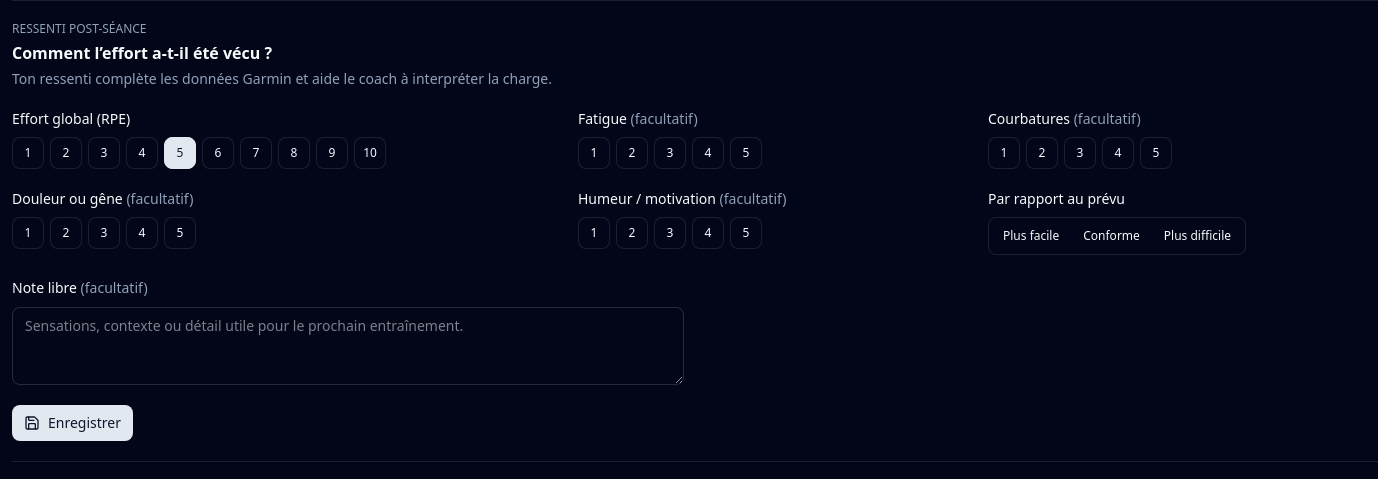
Test: ActivityFeedbackForm › announces a save failure
Click the button "Enregistrer" at (72, 423), box left=12, top=405, right=133, bottom=441
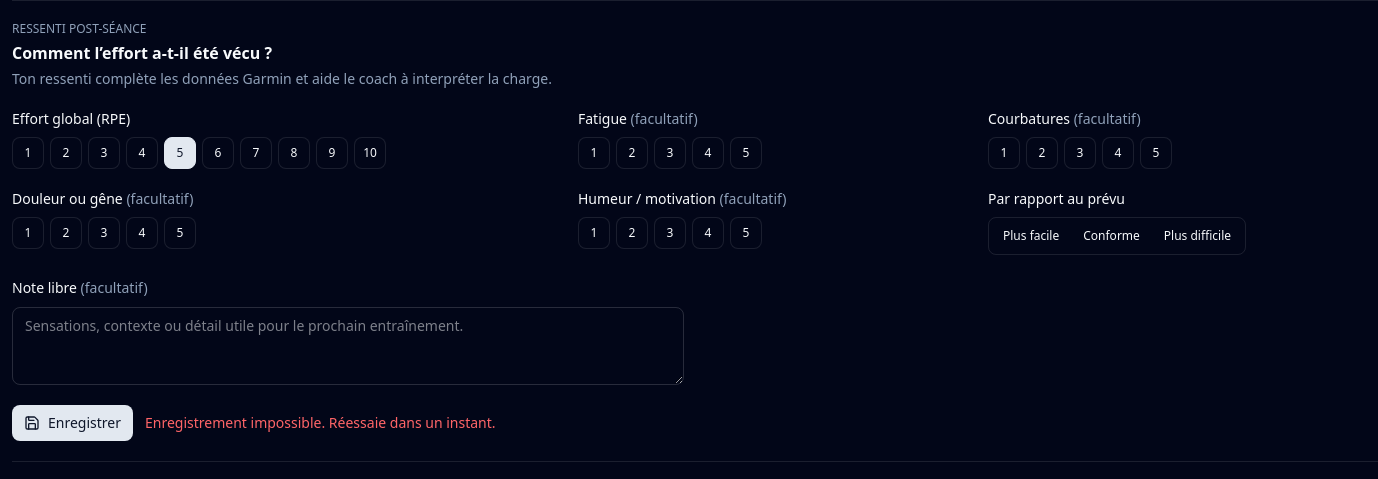
Expected: the message reads "Enregistrement impossible. Réessaie dans un instant.", left=145, top=413, right=496, bottom=432
